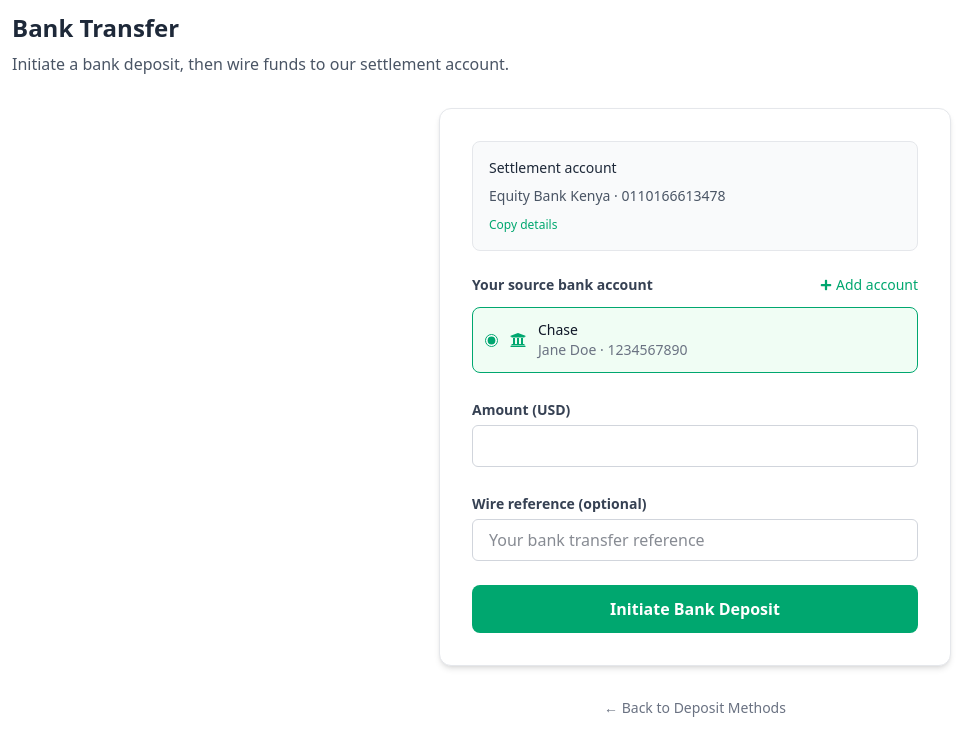
Test case: BankDepositPage › submits a bank deposit with the selected account and amount
This screenshot has width=969, height=734.
Expected: the text "Chase" is shown, [538,320,578,339]
Type "500" into the number field at (695, 446), box [472,425,918,467]
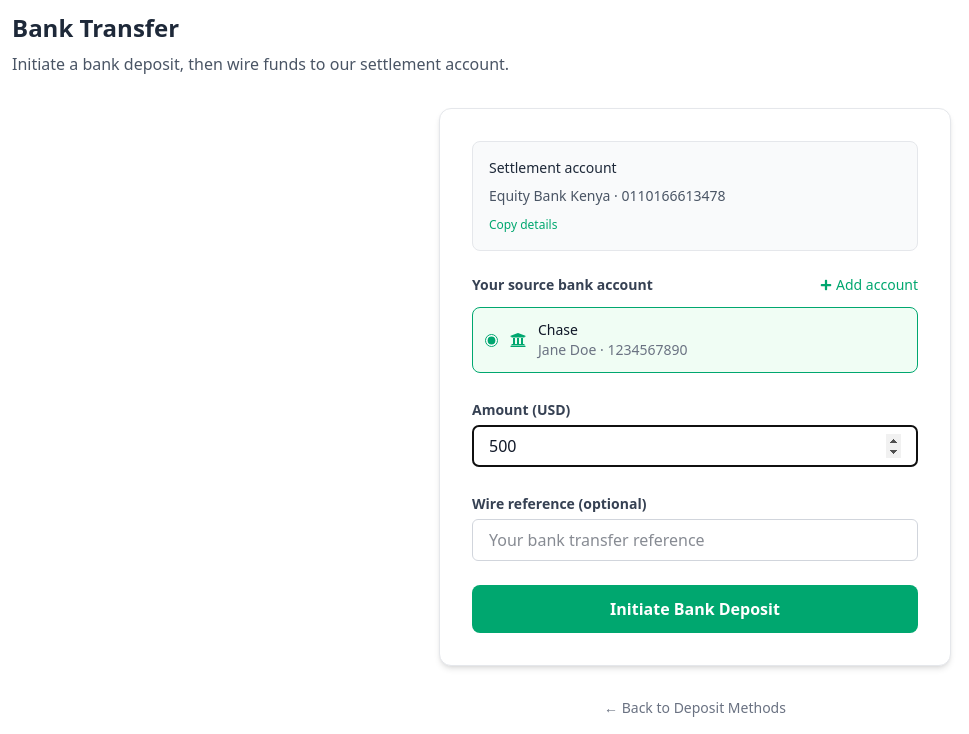
Click the button "Initiate Bank Deposit" at (695, 609), box [472,585,918,633]
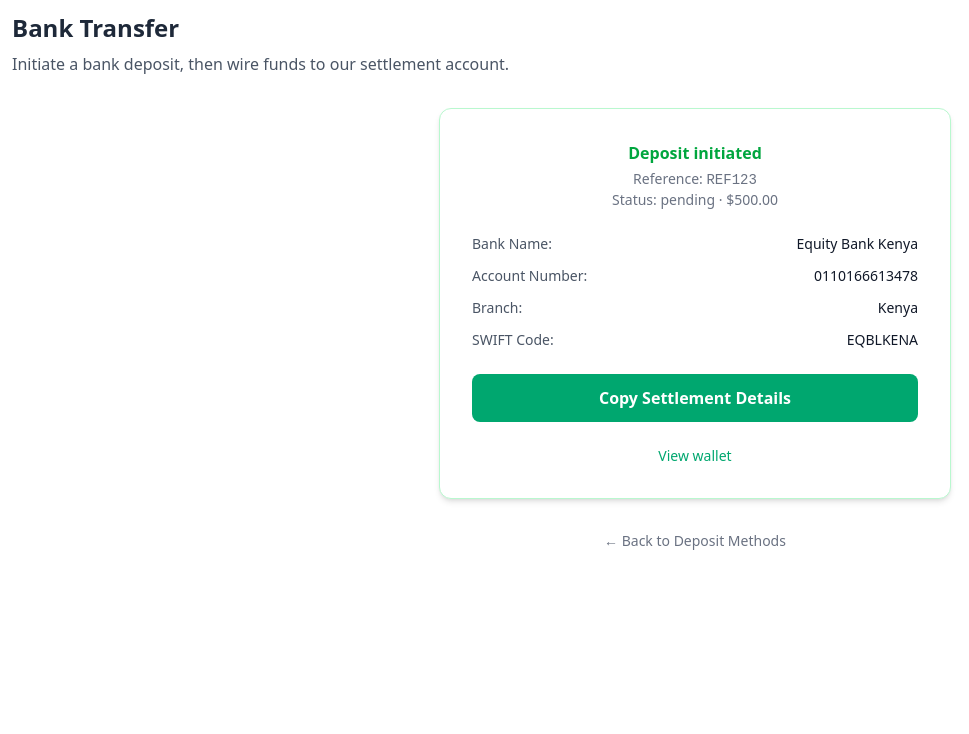
Now the text "Deposit initiated" is shown, box [628,142,762,164]
Now the text "REF123" is shown, box [706,172,757,188]
